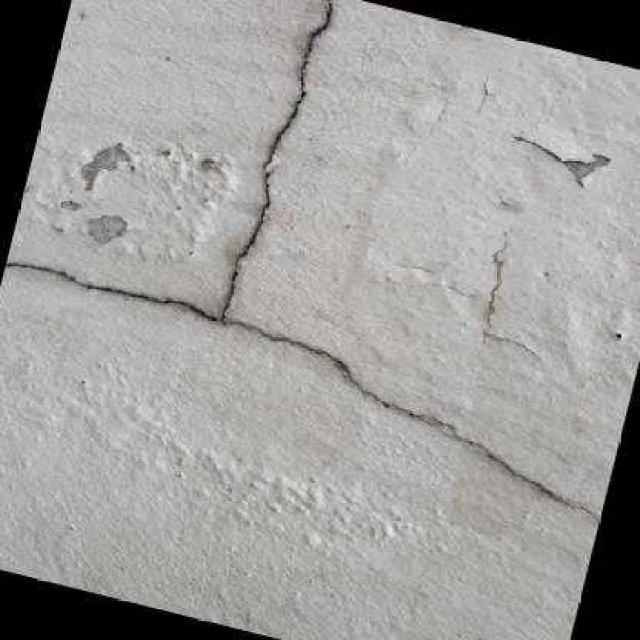D00: (3, 0, 601, 527)
